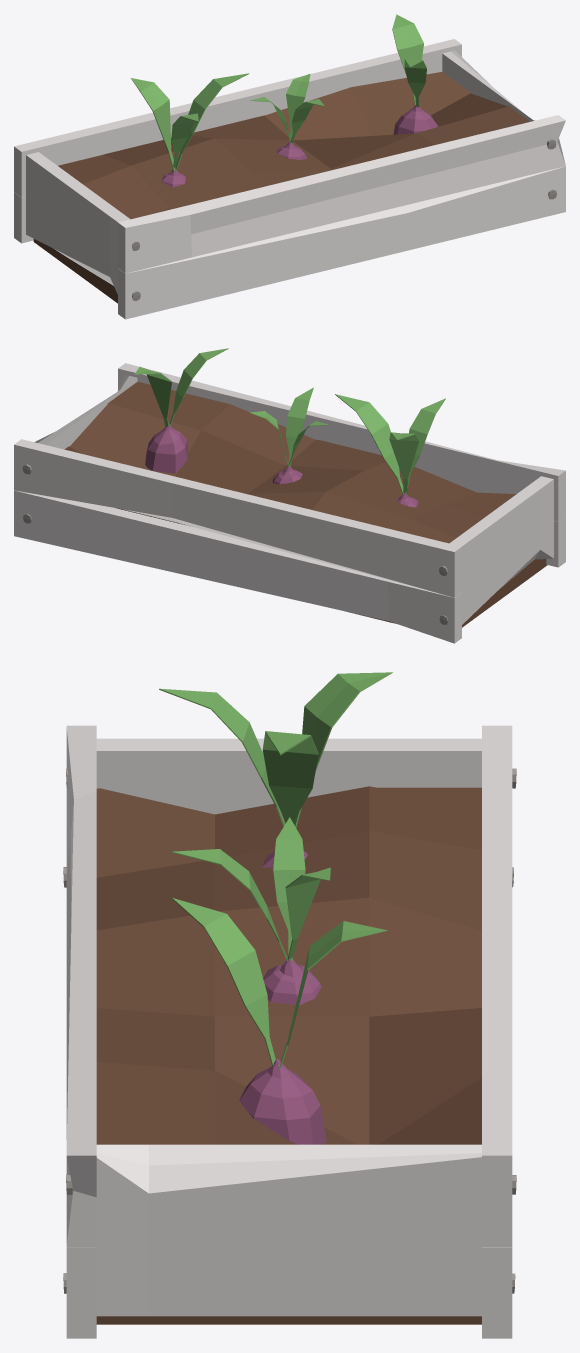
File: Backyard_garden.fbx
The picture shows the model from 3 angles, top to bottom: view 1: azimuth 30°, elevation 25°; view 2: azimuth 150°, elevation 25°; view 3: azimuth 270°, elevation 25°; orthographic projection. The views are drawn at different scales.
Parts seen in each view (by area): view 1: Backyard_garden; view 2: Backyard_garden; view 3: Backyard_garden.
Part boxes in pixels (<box>): Backyard_garden: <box>14,14,565,319</box>; Backyard_garden: <box>14,348,565,643</box>; Backyard_garden: <box>63,672,516,1338</box>.
Bounding box in the file's own units: 204 × 91.1 × 73.36.
